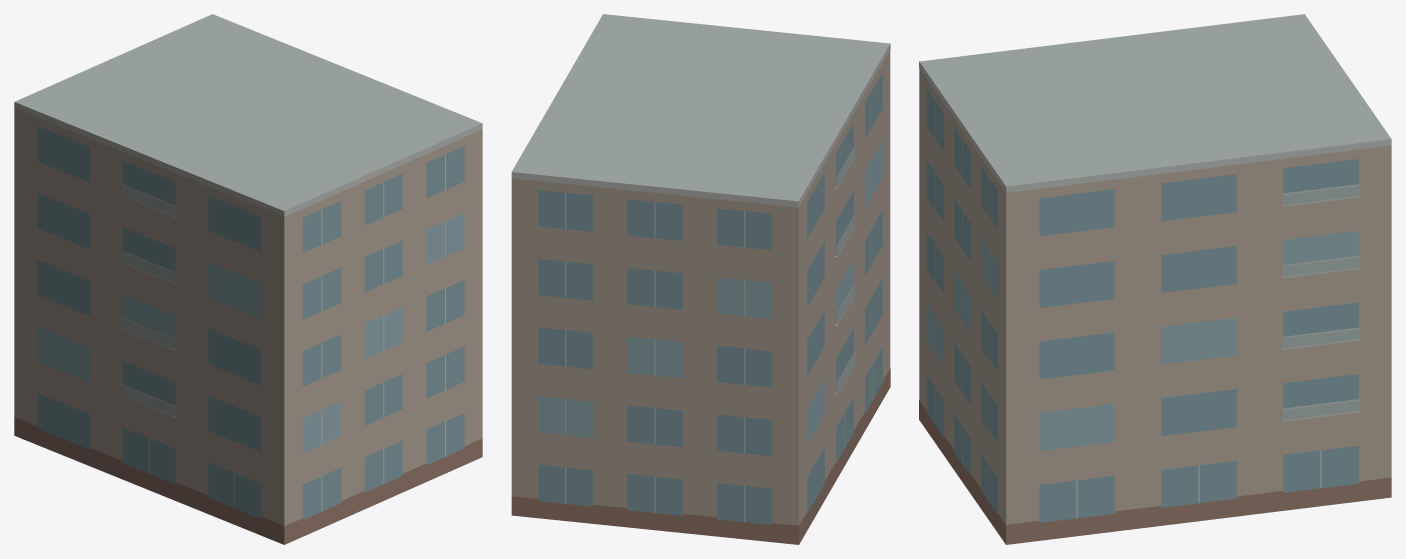
File: survey-upis-32614051.glb
The picture shows the model from 3 angles, left to right: view 1: azimuth 30°, elevation 25°; view 2: azimuth 150°, elevation 25°; view 3: azimuth 270°, elevation 25°; orthographic projection. The views are drawn at different scales.
Parts seen in each view (by area): view 1: survey-upis-32614051.tmp; view 2: survey-upis-32614051.tmp; view 3: survey-upis-32614051.tmp.
Boxes of the visible parts, <box> form: survey-upis-32614051.tmp: <box>14,14,482,544</box>; survey-upis-32614051.tmp: <box>511,14,890,544</box>; survey-upis-32614051.tmp: <box>919,14,1391,544</box>.
Bounding box in the file's own units: 14.16 × 13.7 × 16.38.
